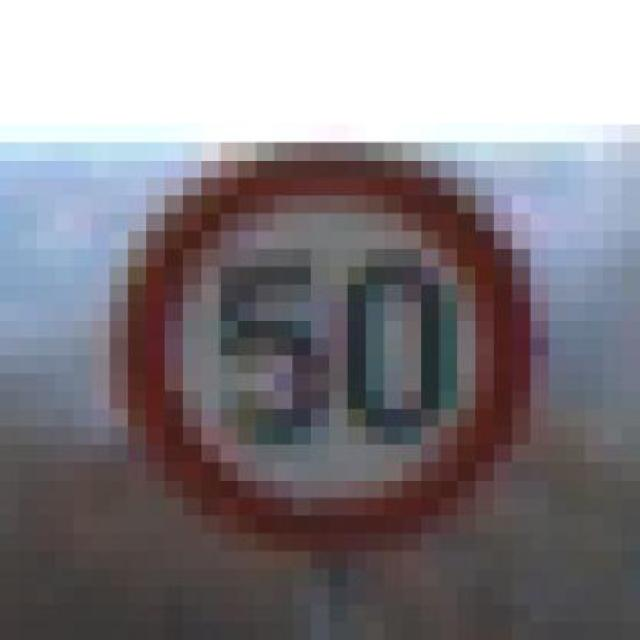50 mph speed limit: (73, 106, 549, 534)
